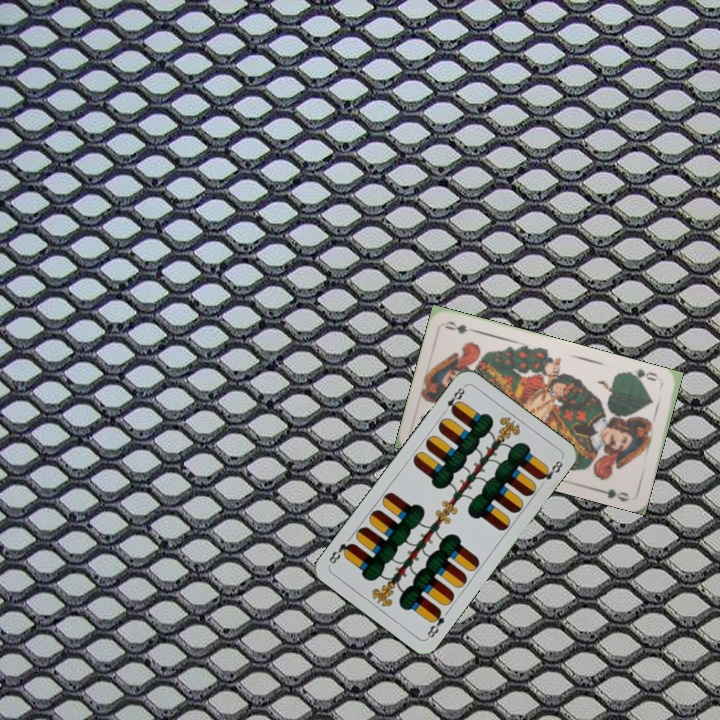E8: (438, 382, 468, 417), (423, 605, 447, 641)
GO: (625, 365, 661, 385)
